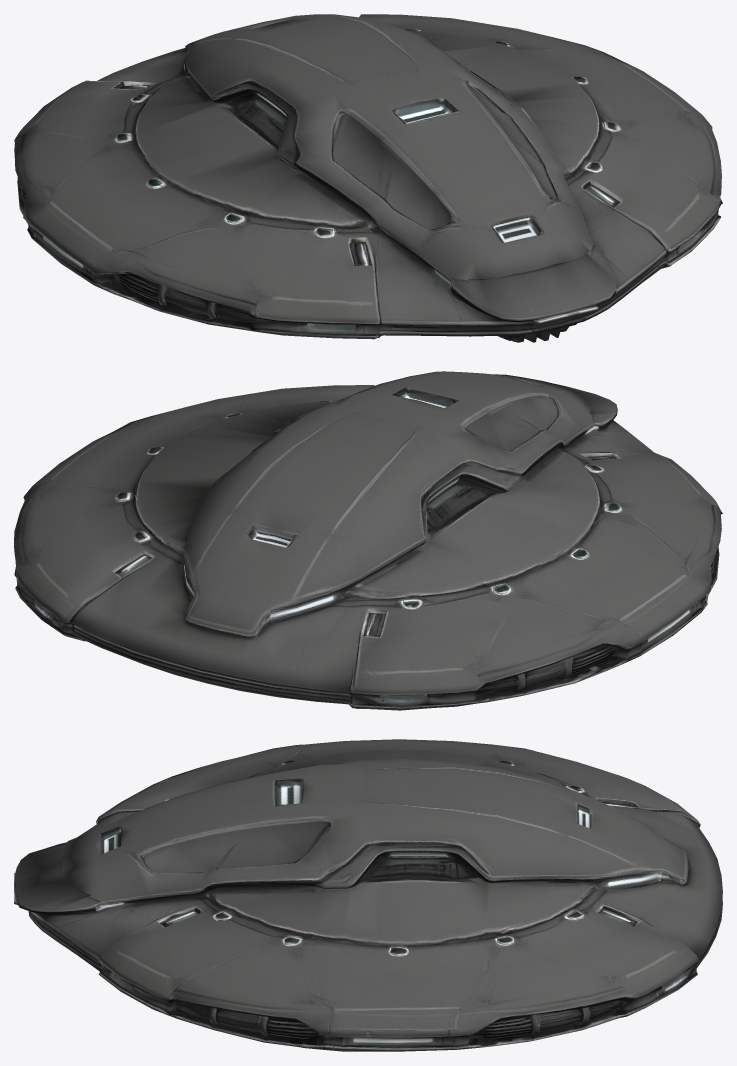
File: outer-system-ufo.glb
The picture shows the model from 3 angles, top to bottom: view 1: azimuth 30°, elevation 25°; view 2: azimuth 150°, elevation 25°; view 3: azimuth 270°, elevation 25°; orthographic projection. The views are drawn at different scales.
Visible parts, largest first — view 1: Outer System UFO; view 2: Outer System UFO; view 3: Outer System UFO.
Boxes of the visible parts, x1,y1,x2,y2 form: Outer System UFO: (14,14,722,342); Outer System UFO: (14,371,722,710); Outer System UFO: (14,739,722,1051).
Size of the model in its own units: 0.9668 by 0.3223 by 0.998.
1 material, 1 textured.
